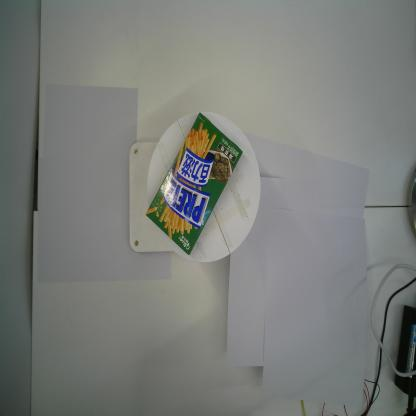Dessert: (144, 110, 244, 256)
